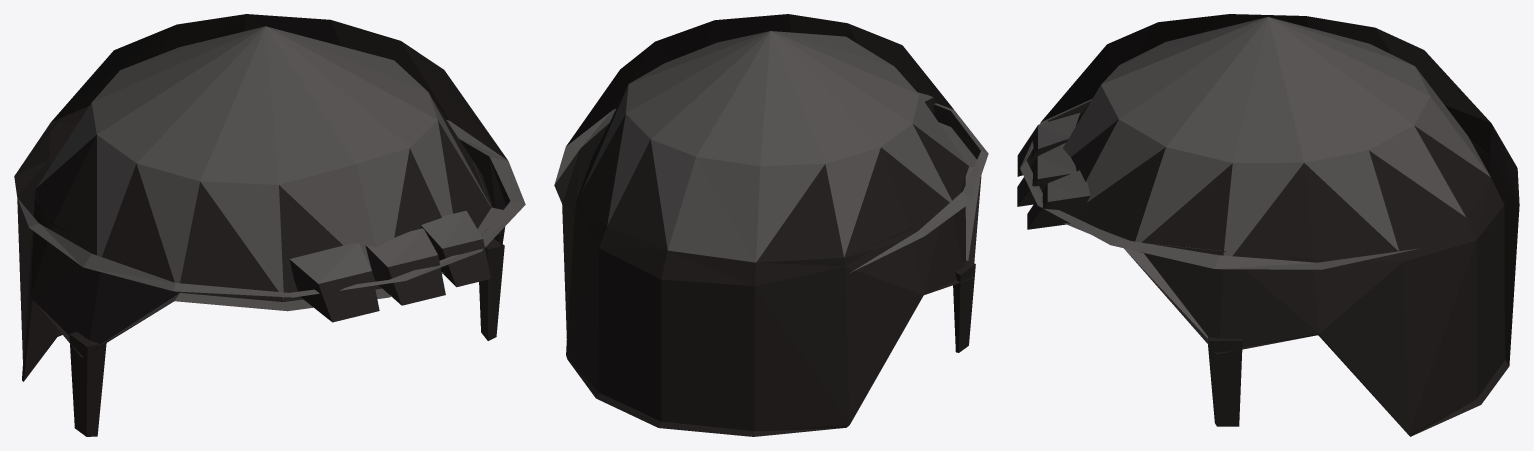
File: hair_short_01.glb
3 renders of one model, left to right at view 1: azimuth 30°, elevation 25°; view 2: azimuth 150°, elevation 25°; view 3: azimuth 270°, elevation 25°, orthographic. The views are drawn at different scales.
Visible parts, largest first — view 1: hair_short_01; view 2: hair_short_01; view 3: hair_short_01.
Boxes of the visible parts, bbox=[...] form: hair_short_01: bbox=[14, 14, 525, 436]; hair_short_01: bbox=[554, 14, 988, 436]; hair_short_01: bbox=[1017, 14, 1519, 436].
Size of the model in its own units: 0.2703 by 0.2269 by 0.2966.
Materials: 1 (1 with a texture image).
